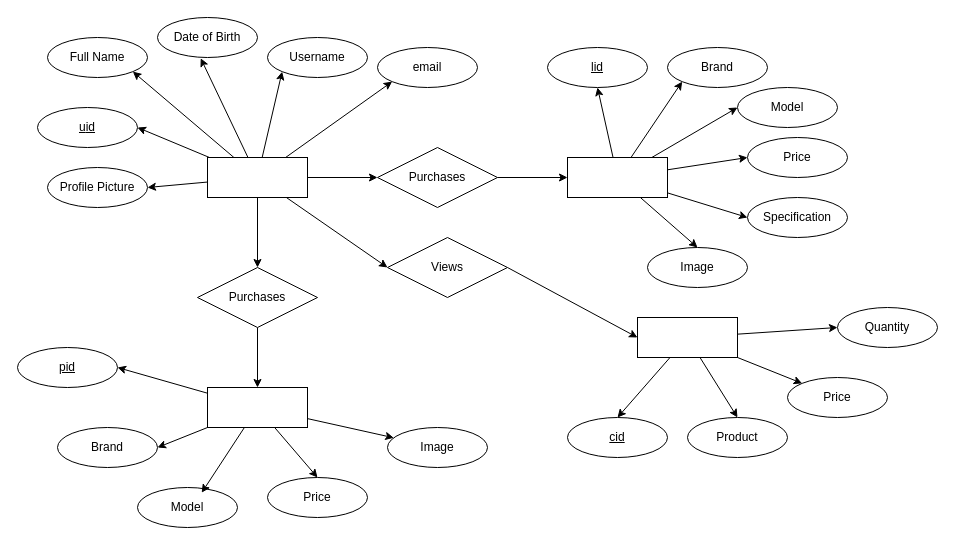
The diagram is 955 pixels wide and 545 high, and some of its shapes have lost their labels. The box of each missing label's shape, as (x1, y1, x2, y2) in pixels:
Cart: (636, 316, 738, 358)
Laptop: (566, 156, 668, 198)
PC Part: (206, 386, 308, 428)
User: (206, 156, 308, 198)
